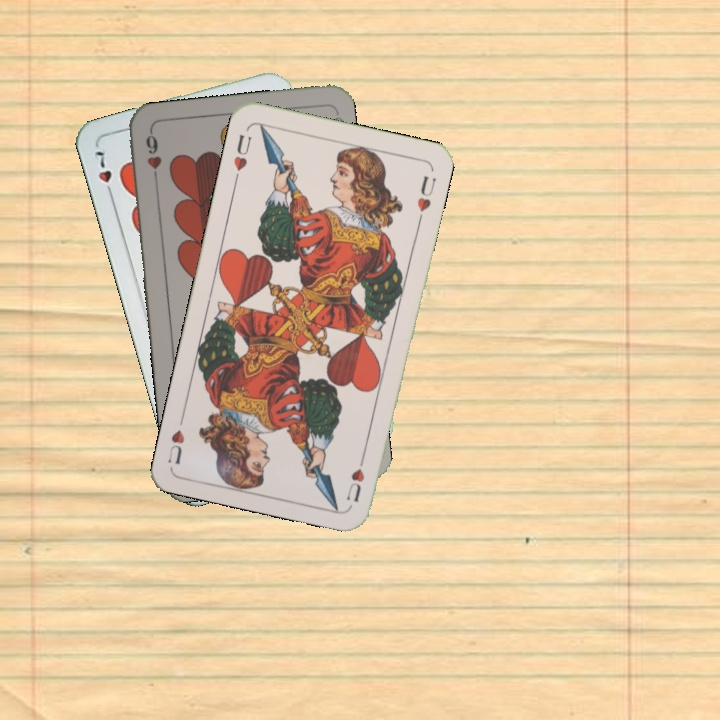H7: (91, 147, 116, 202)
H9: (141, 128, 165, 187)
HU: (342, 449, 369, 505), (229, 130, 255, 174)
